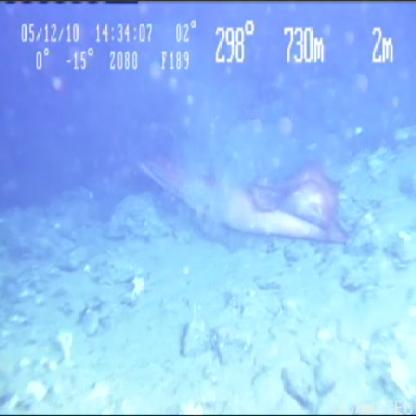Bio: (134, 152, 356, 249)
